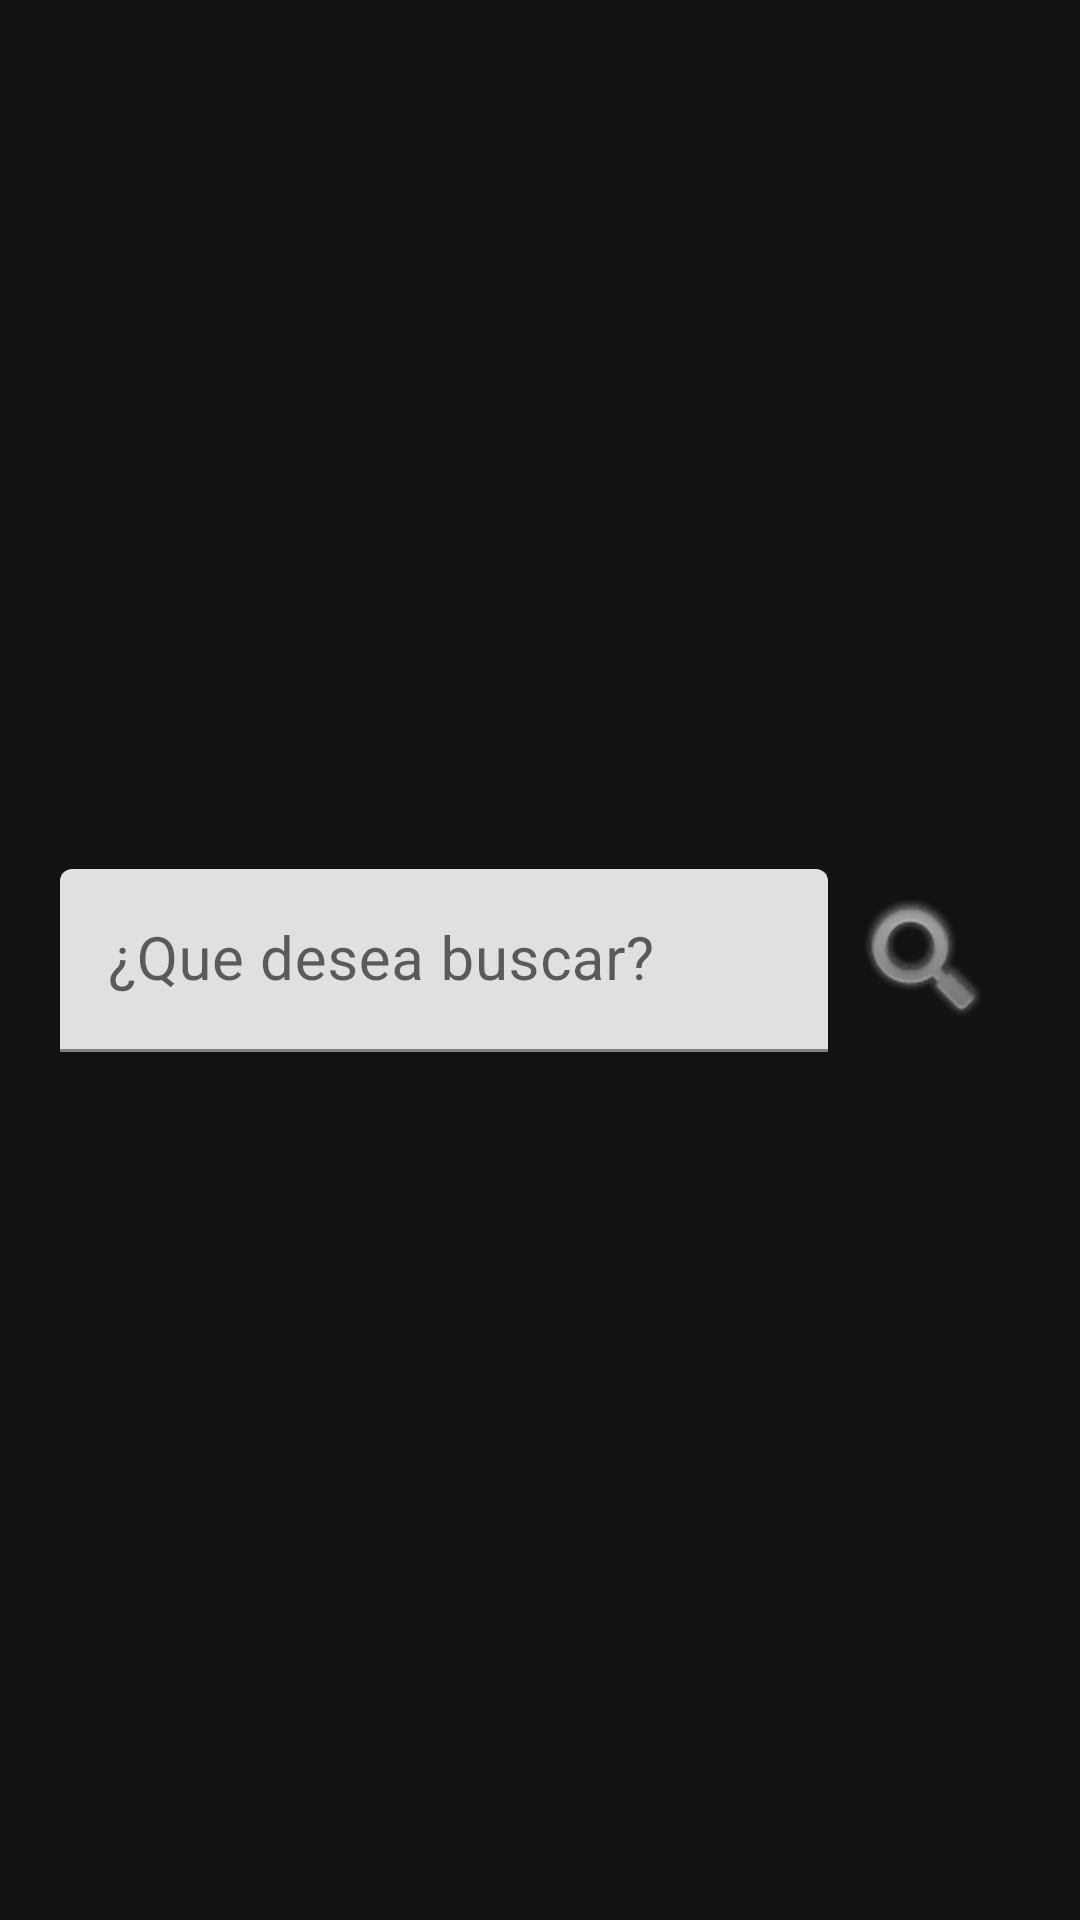

Where to tap for icons on this 1080x1920 app screen, as point (x, y):
search category: point (923, 957)
